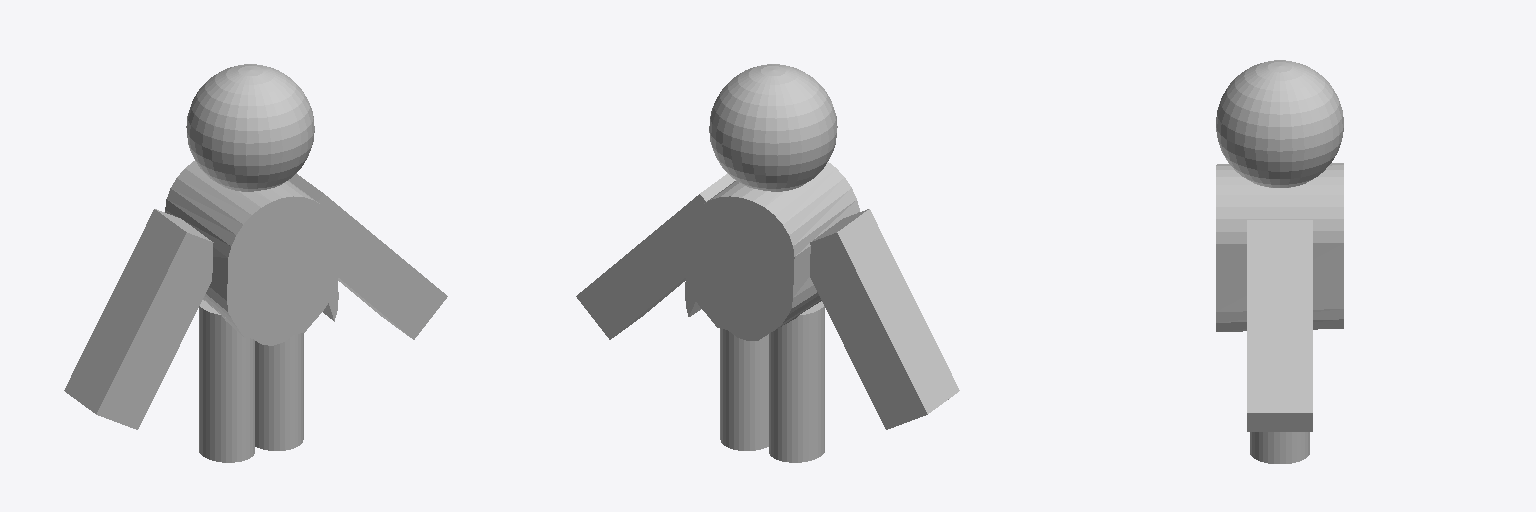
The model's file is Figurine37.obj.
3 views of the same model, side by side, from view 1: azimuth 30°, elevation 25°; view 2: azimuth 150°, elevation 25°; view 3: azimuth 270°, elevation 25° (orthographic).
Visible parts, largest first — view 1: Cylinder; view 2: Cylinder; view 3: Cylinder.
Part boxes in pixels (x1,y1,x2,y2): Cylinder: (64, 64, 447, 462); Cylinder: (576, 64, 959, 462); Cylinder: (1216, 60, 1343, 463).
Size of the model in its own units: 6.31 by 6.42 by 2.